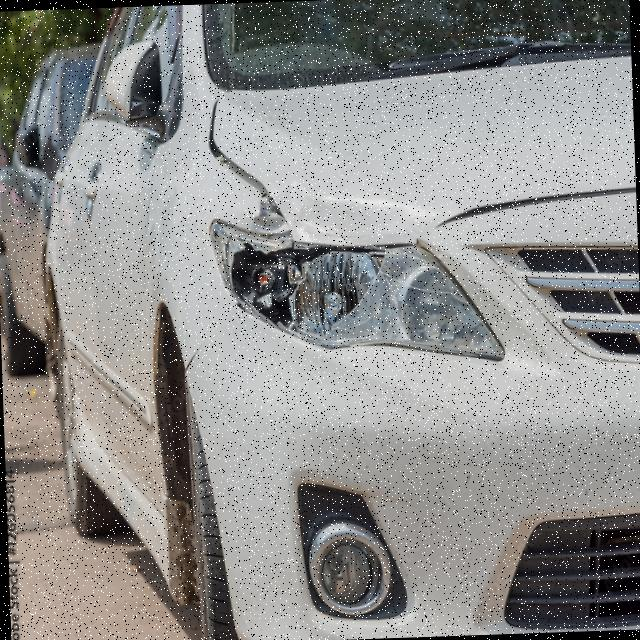Head Light: (186, 81, 474, 428)
